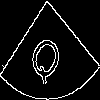Q: (25, 25, 70, 88)
